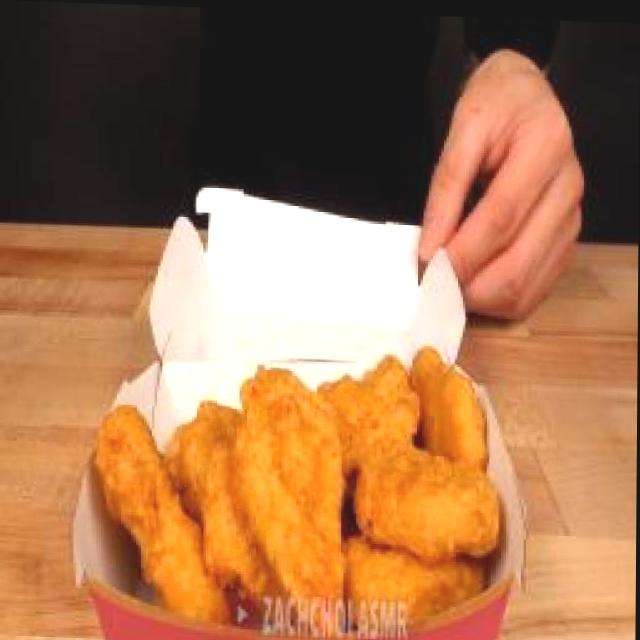nugget: (83, 316, 513, 640)
